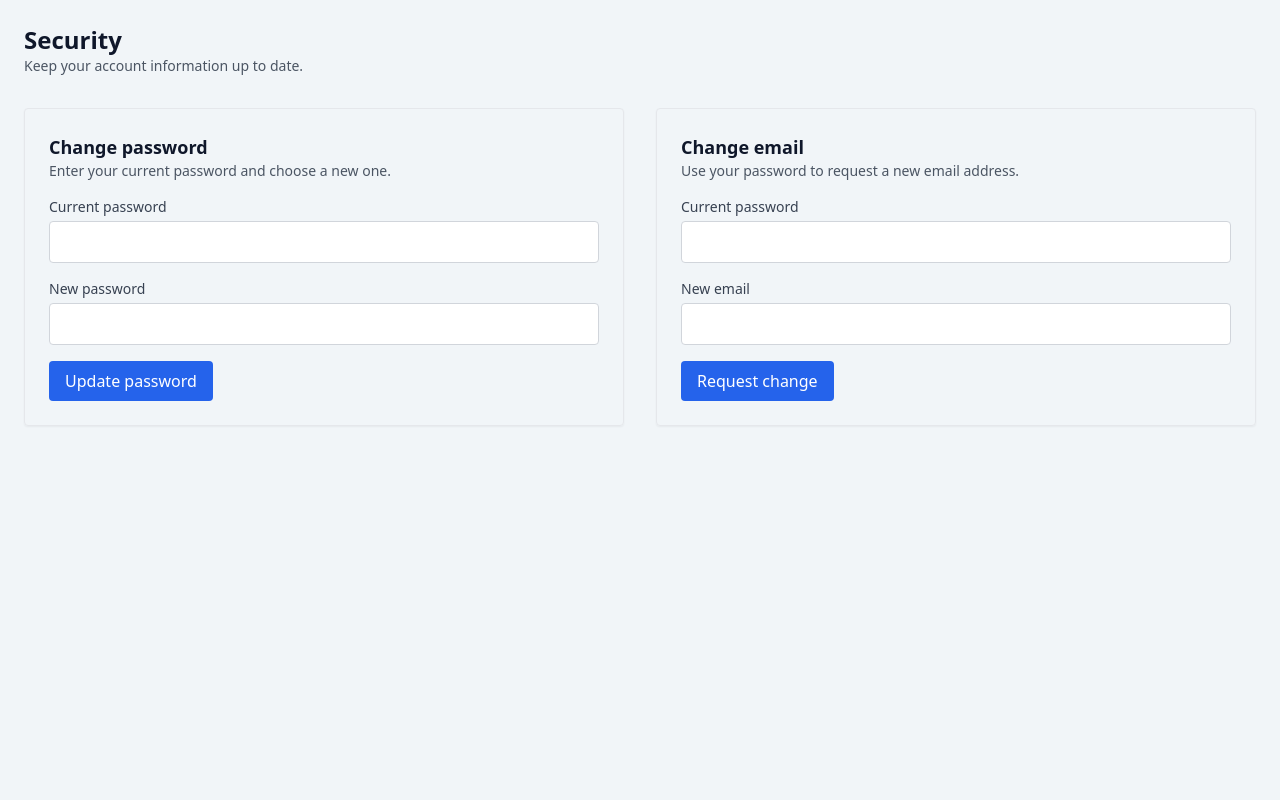
SecurityPage › surfaces invalid credentials when email change fails with 401
Expected: the form "Change email" is shown, [656,108,1256,426]
In the password field labelled "Current password" below "Change email": coordinates (956, 242) [681,221,1231,263], type "wrong-pass"
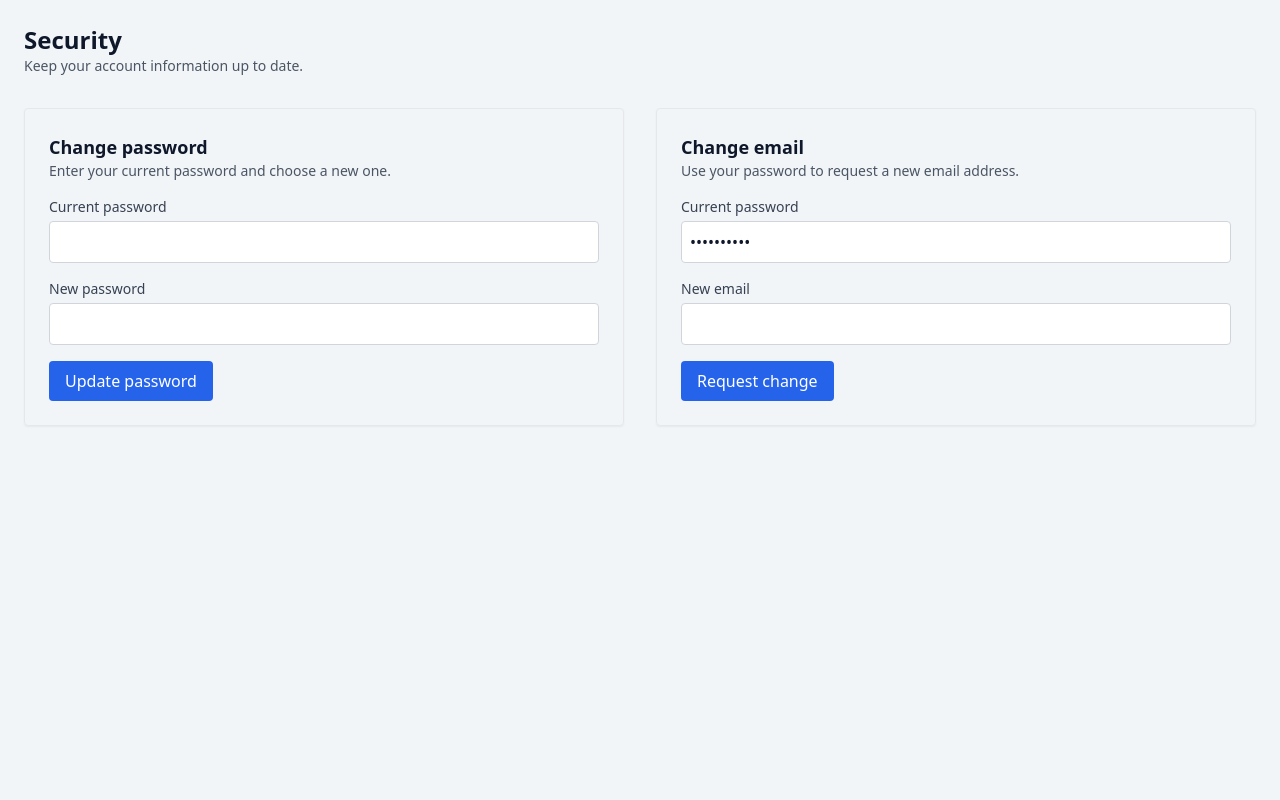
In the field labelled "New email": coordinates (956, 324) [681,303,1231,345], type "new@example.com"
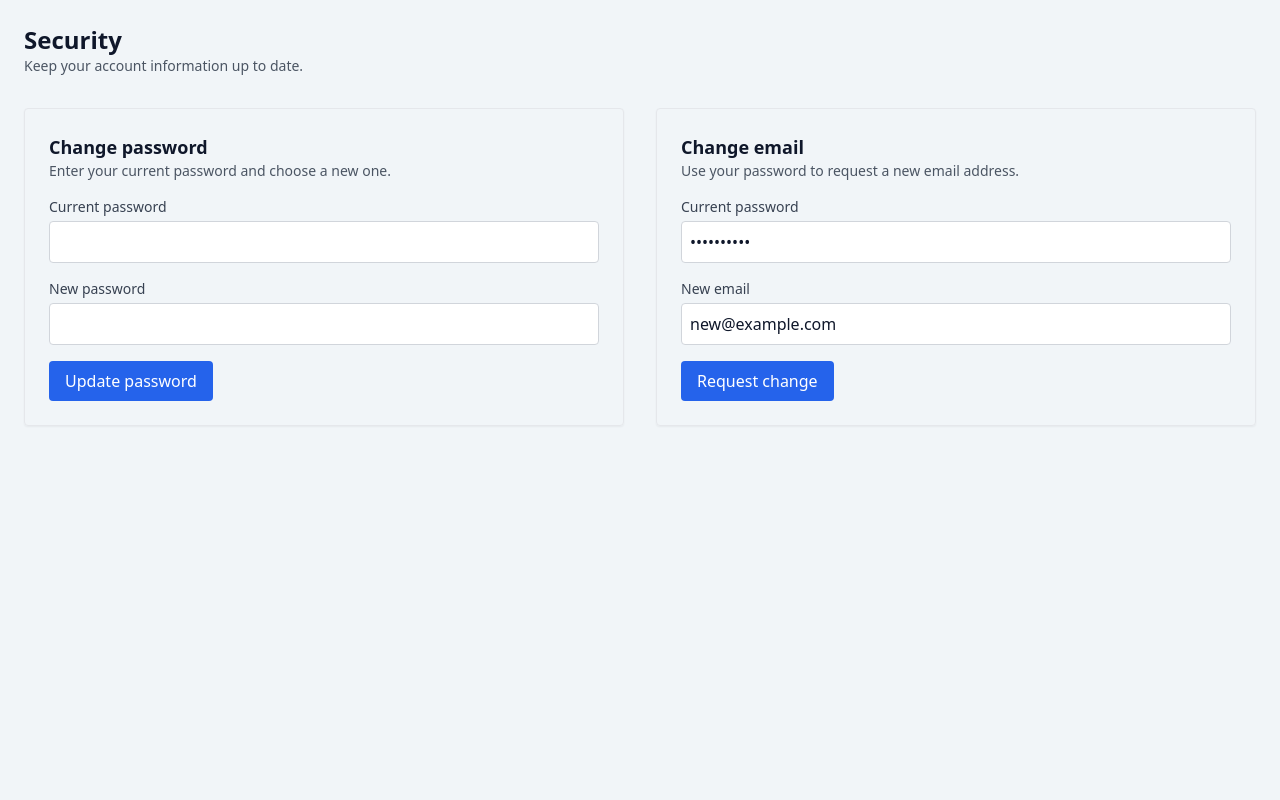
Click the button "Request change": coordinates (757, 381) [681,361,834,401]
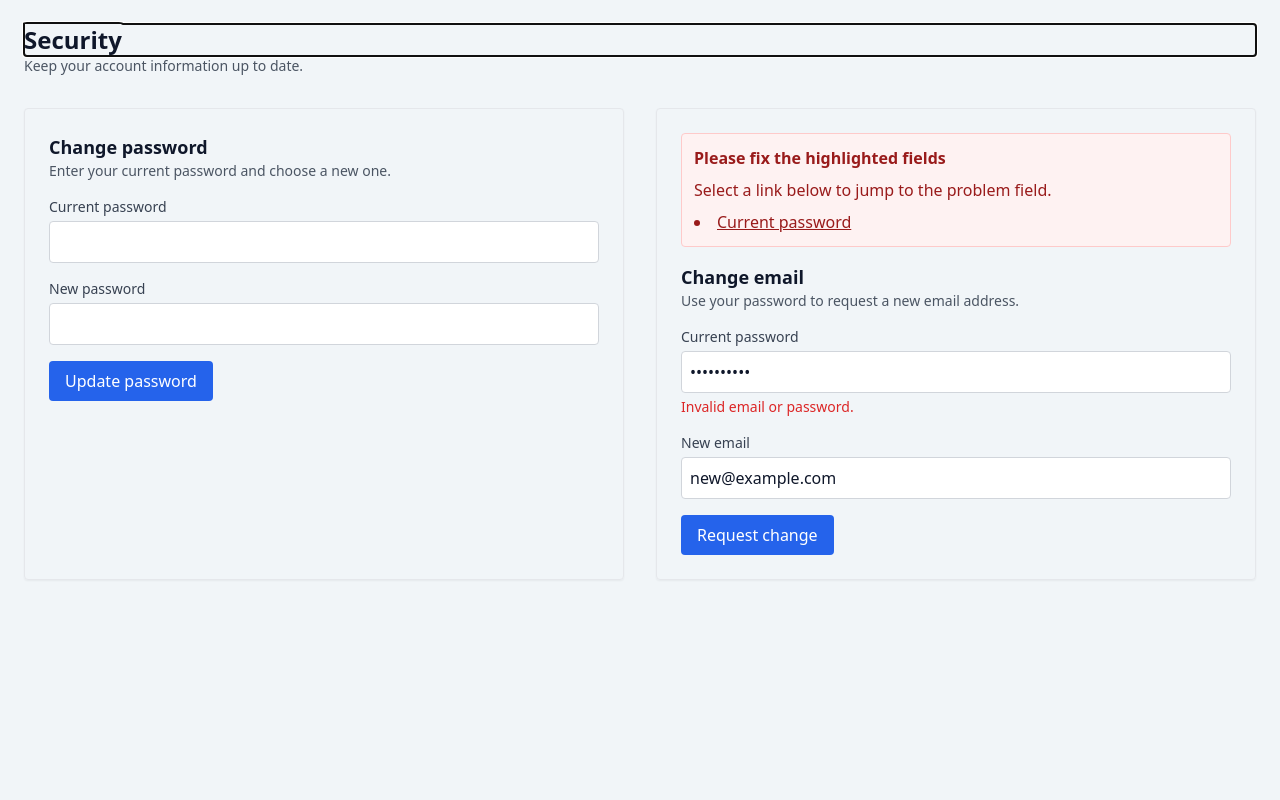
Expected: the text "Invalid email or password." is shown, [681,397,854,416]
